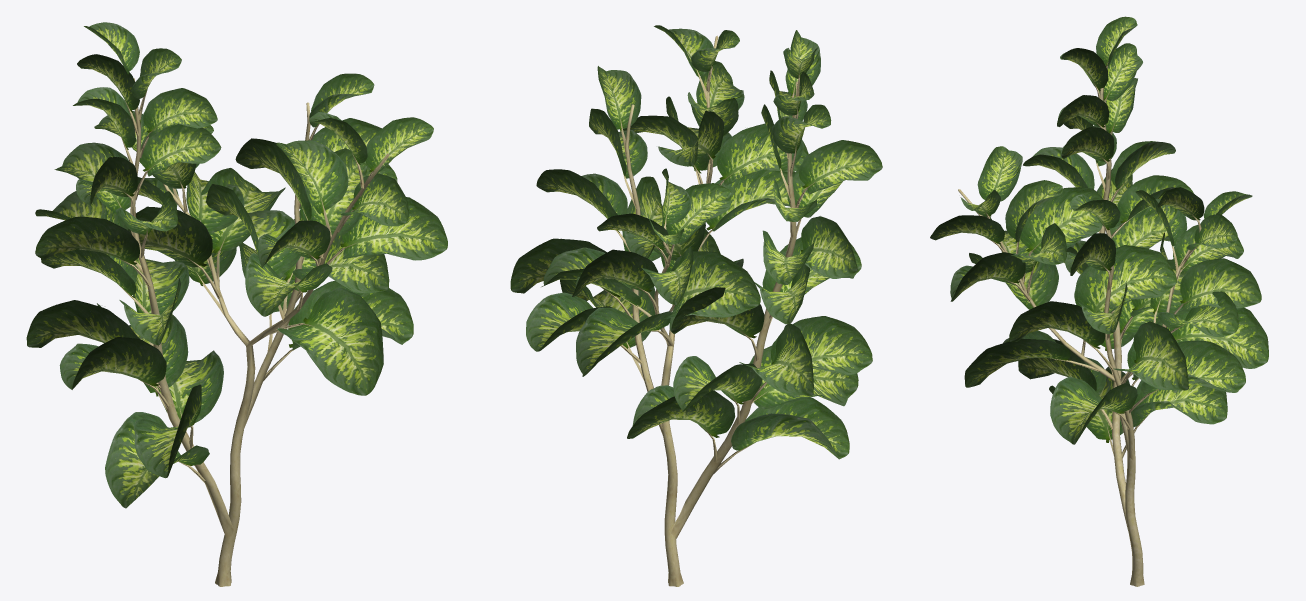
Rendered from Tropical Plant2.fbx.
3 renders of one model, left to right at view 1: azimuth 30°, elevation 25°; view 2: azimuth 150°, elevation 25°; view 3: azimuth 270°, elevation 25°, orthographic. The views are drawn at different scales.
Parts seen in each view (by area): view 1: Tree_1, Tree_0; view 2: Tree_1, Tree_0; view 3: Tree_1, Tree_0.
Boxes of the visible parts, <box> form: Tree_1: <box>26,22,447,508</box>; Tree_0: <box>116,78,389,586</box>; Tree_1: <box>510,25,882,459</box>; Tree_0: <box>601,35,816,586</box>; Tree_1: <box>930,16,1268,444</box>; Tree_0: <box>958,62,1201,586</box>.
Bounding box in the file's own units: 95.24 × 149 × 98.57.
